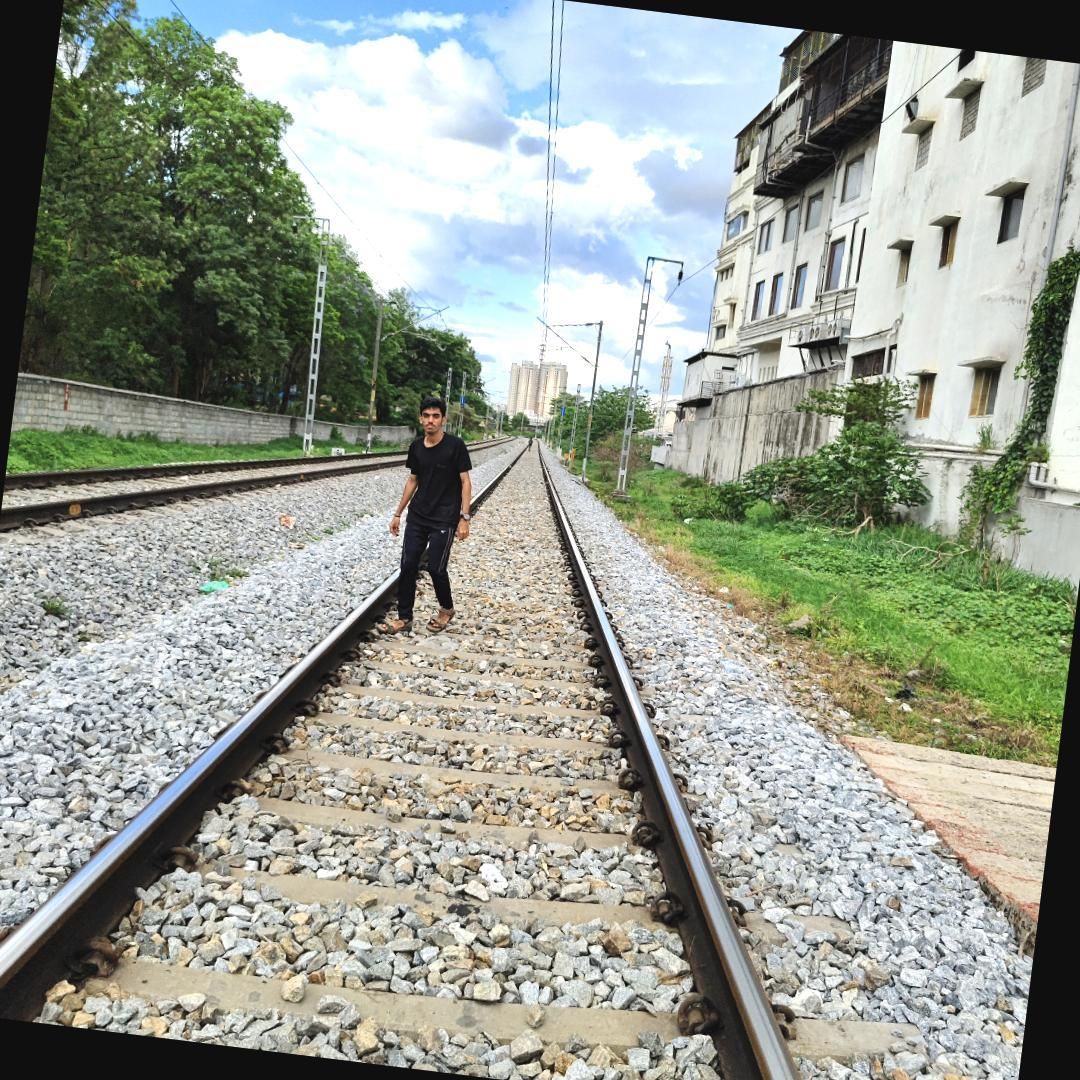standing: (364, 382, 496, 656)
